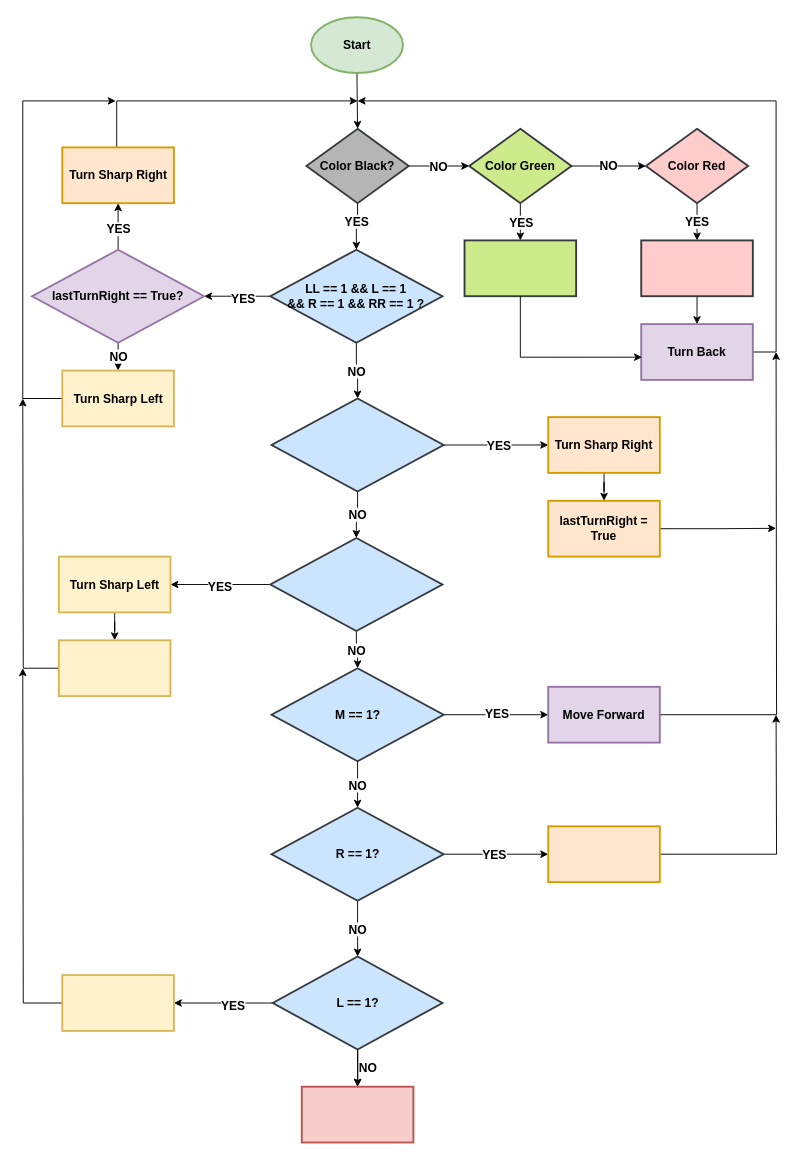
Image size: 801x1159. Some labels were removed from this diagram. Here are the shapes that lost their labels. From the top down, the centre of each, then its label:
the point at 520,268: Shoot Green
the point at 696,268: Shoot Red
the point at 357,444: RR == 1 && R == 1 && M == 1 ?
the point at 356,584: LL == 1 && L == 1 && M == 1 ?
the point at 114,668: lastTurnRight = False
the point at 603,854: Turn Right
the point at 117,1002: Turn Left
the point at 357,1114: Stop
